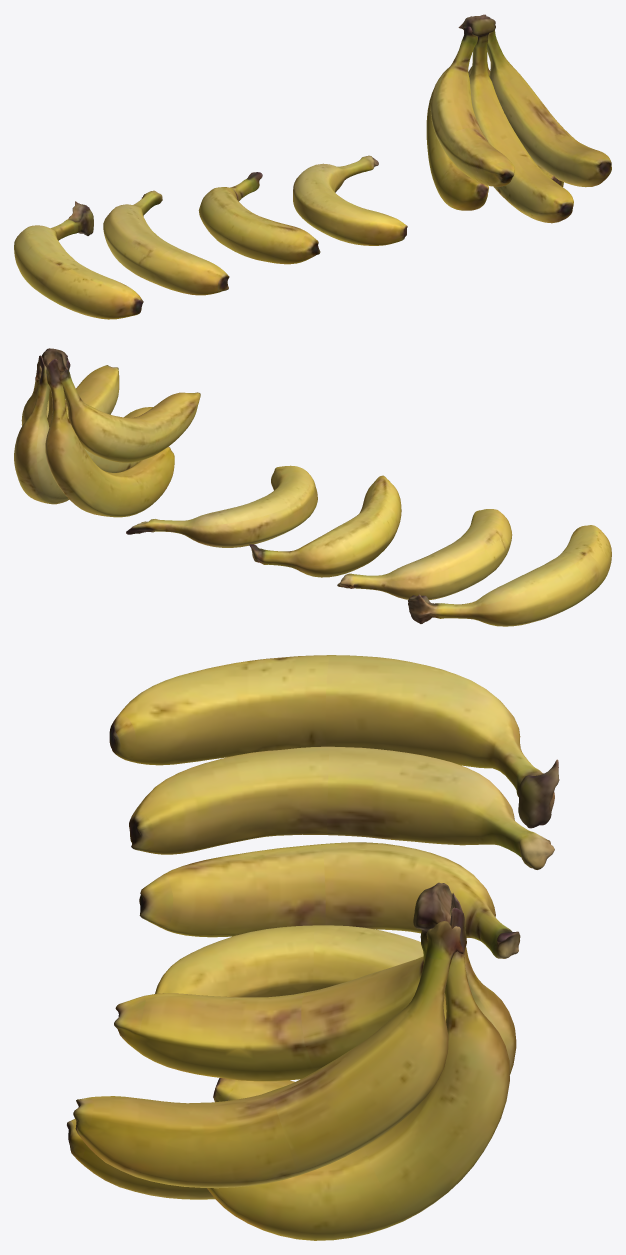
File: bananas.glb
3 views of the same model, one above another, from view 1: azimuth 30°, elevation 25°; view 2: azimuth 150°, elevation 25°; view 3: azimuth 270°, elevation 25° (orthographic). The views are drawn at different scales.
Parts seen in each view (by area): view 1: bananas_bunch; view 2: bananas_bunch; view 3: bananas_bunch.
Boxes of the visible parts, box(x1,y1,x2,y2) form: bananas_bunch: box(14, 14, 611, 319); bananas_bunch: box(14, 348, 611, 626); bananas_bunch: box(67, 655, 559, 1240).
Bounding box in the file's own units: 0.6 × 0.1787 × 0.2441.
Materials: 1 (1 with a texture image).
